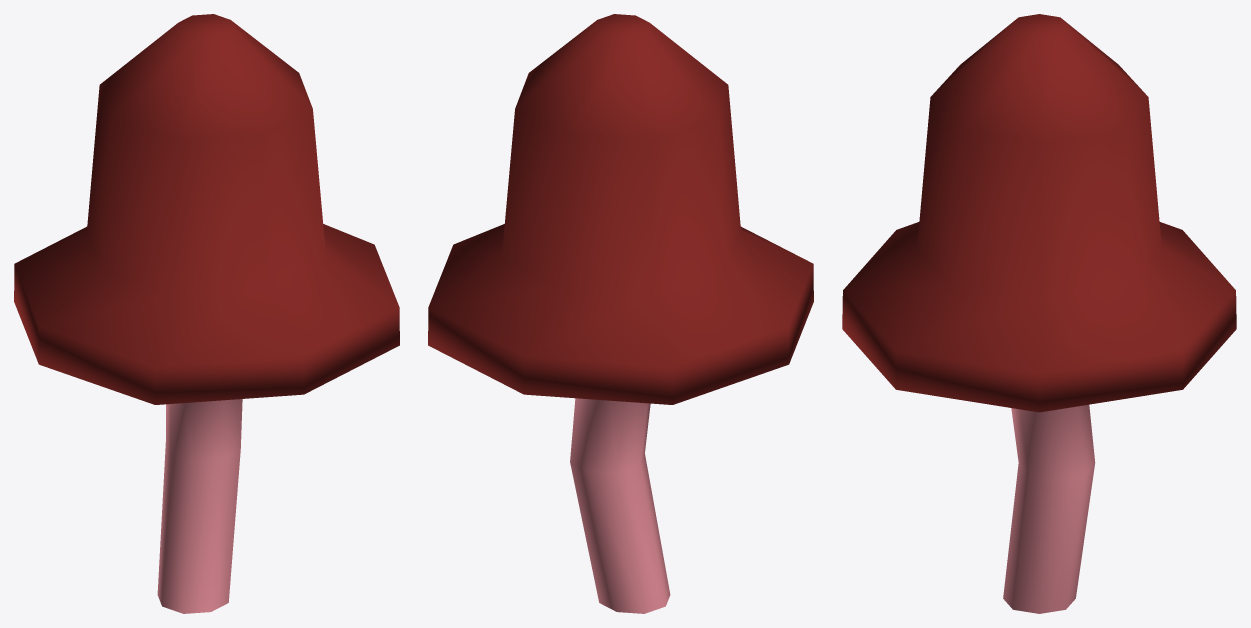
File: Mashroom_20.fbx
3 views of the same model, side by side, from view 1: azimuth 30°, elevation 25°; view 2: azimuth 150°, elevation 25°; view 3: azimuth 270°, elevation 25° (orthographic).
Visible parts, largest first — view 1: Mashroom_20; view 2: Mashroom_20; view 3: Mashroom_20.
Boxes of the visible parts, x1,y1,x2,y2 form: Mashroom_20: (14,14,399,613); Mashroom_20: (428,14,813,613); Mashroom_20: (842,14,1236,613).
Bounding box in the file's own units: 32.99 × 53.42 × 32.99.
